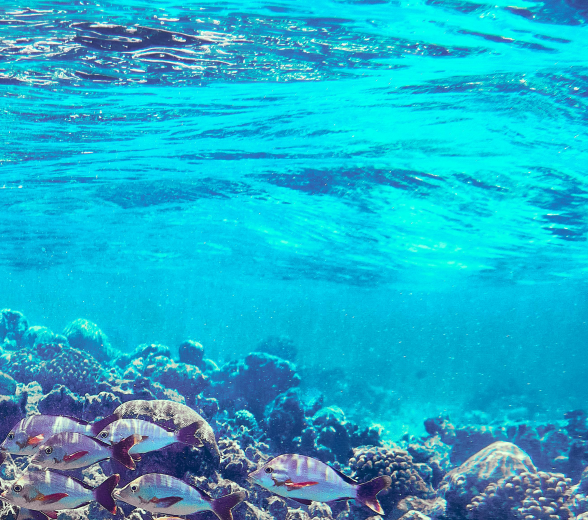fishSmall: (245, 452, 391, 515), (2, 467, 120, 519), (114, 473, 245, 519), (2, 413, 116, 456), (99, 414, 204, 460), (30, 434, 143, 471)
